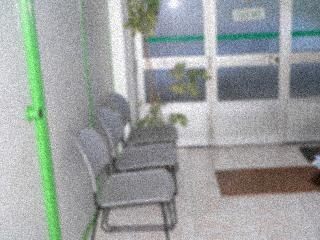Puerta: (210, 3, 285, 141)
